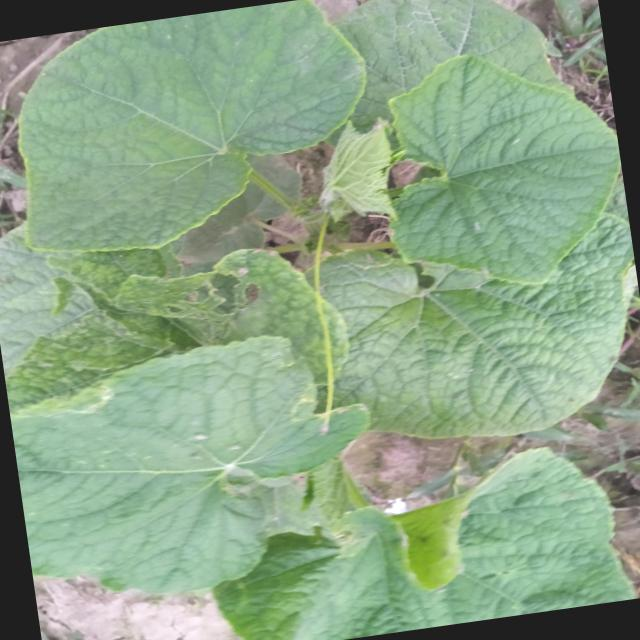cucumber_healthy: (4, 316, 393, 618), (0, 0, 391, 274), (189, 430, 640, 640), (299, 207, 640, 464), (368, 34, 636, 306)
